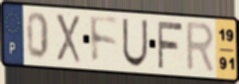0: (25, 10, 50, 63)
F: (88, 13, 121, 67), (155, 20, 184, 71)
R: (185, 21, 217, 76)
U: (121, 17, 149, 69)
X: (54, 12, 83, 66)
